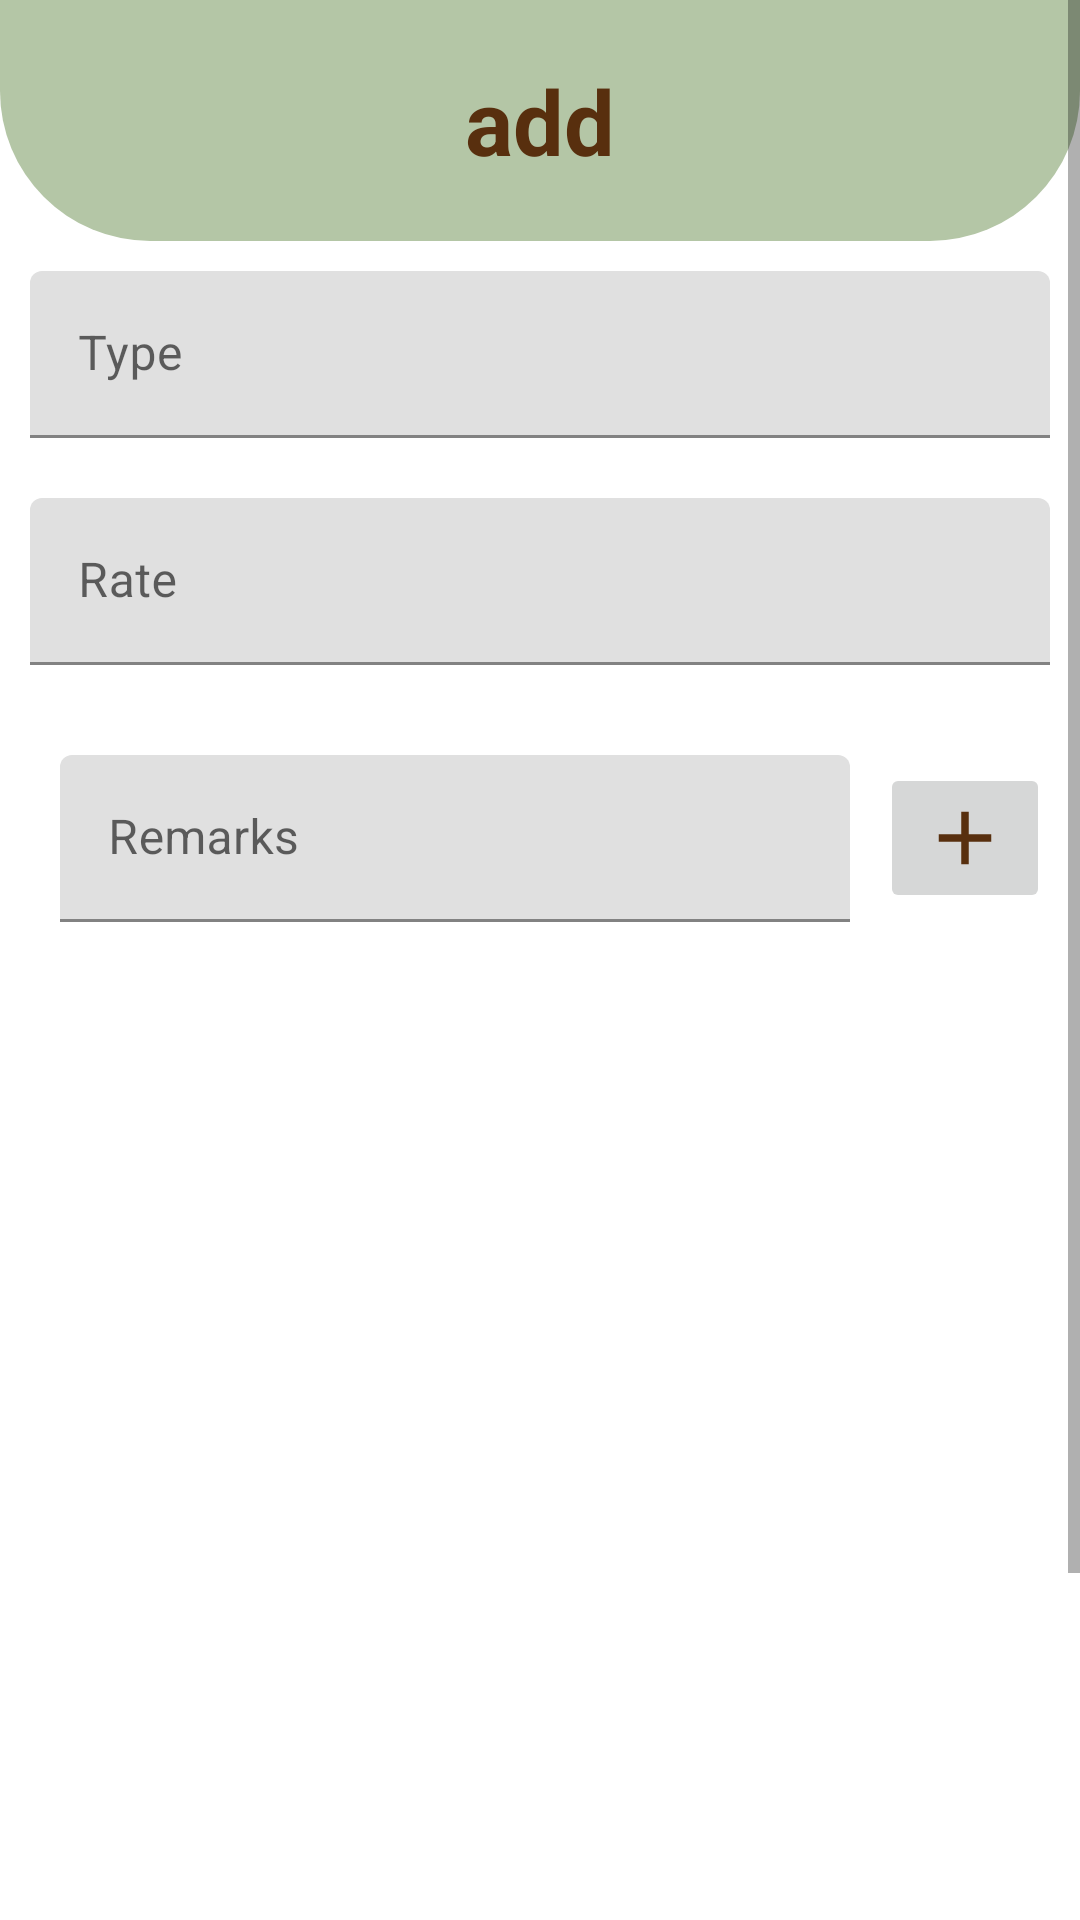

Locate icon controls on the screen. Image size 1080*1920, boxes as [x1=x1, y1=y1, x2=x2, y2=y2].
add: [x1=892, y1=781, x2=1038, y2=895]
